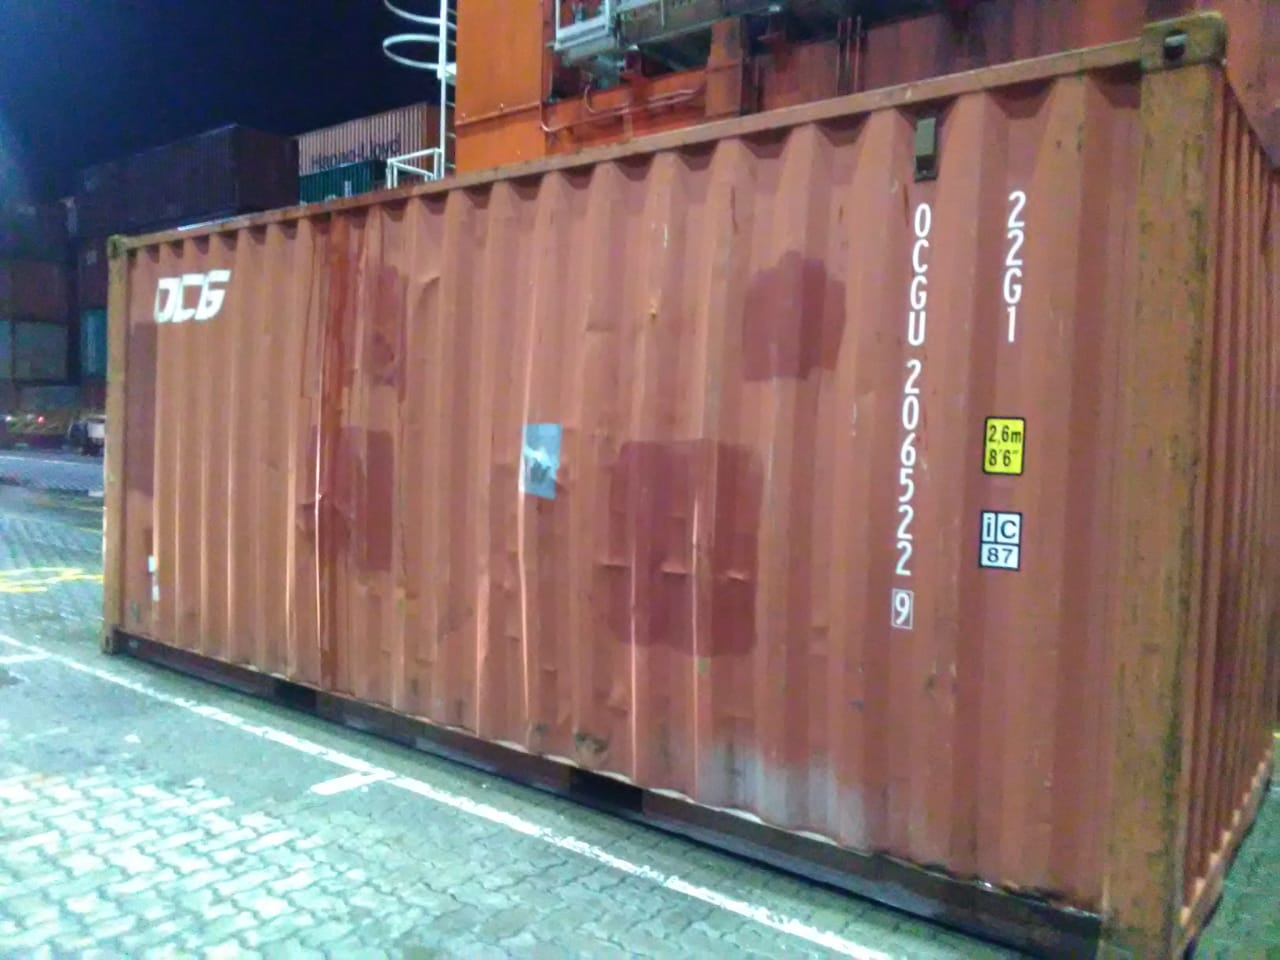bulged: (502, 578, 669, 778), (306, 217, 509, 365)
